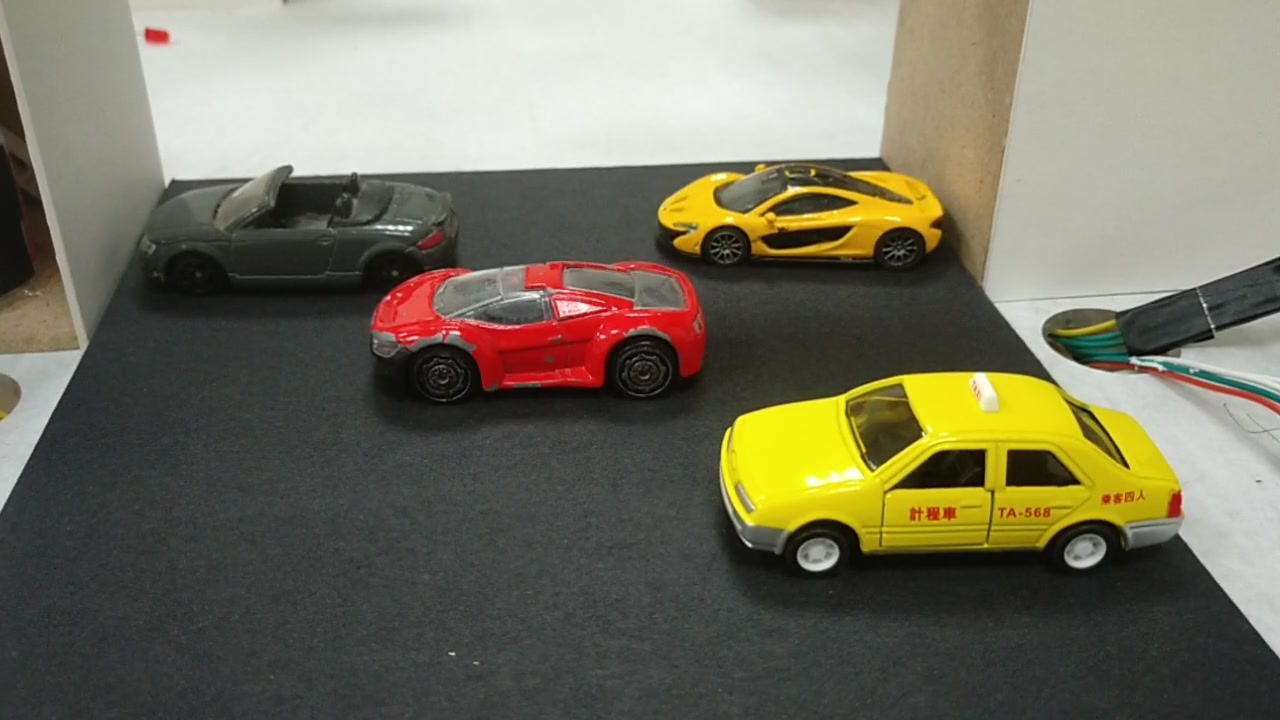car: (718, 392, 1181, 568), (362, 263, 703, 393), (140, 171, 455, 286), (660, 161, 950, 265)
